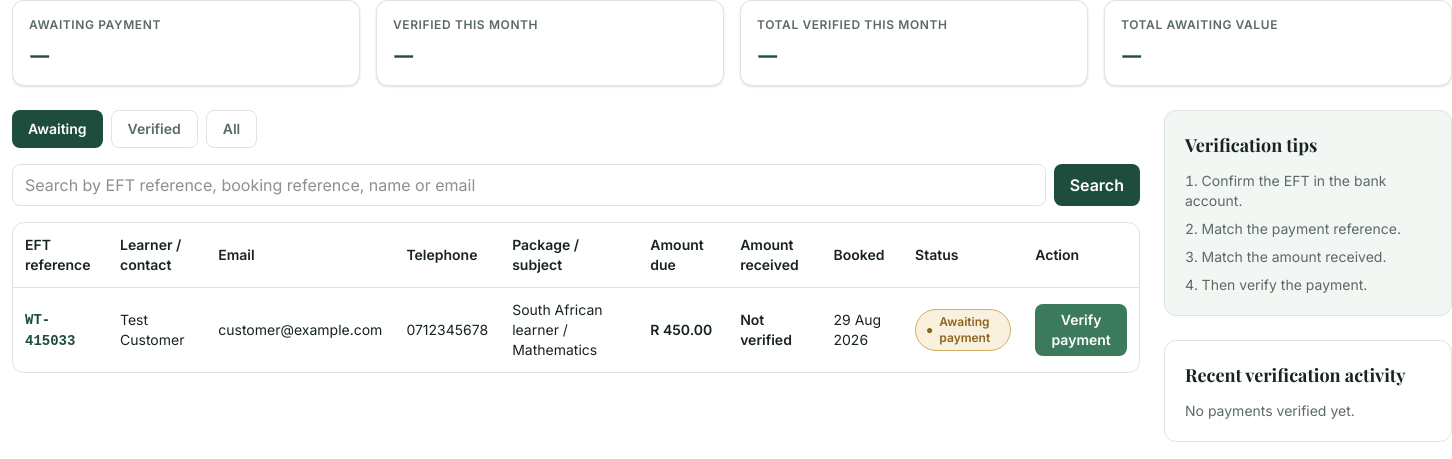
Test case: AdminDashboard › the All tab shows its own empty-state message
What coordinates should you click on to do the following:
click the tab "All"
I would click on:
 (232, 129)
Its box is [206, 110, 257, 148].
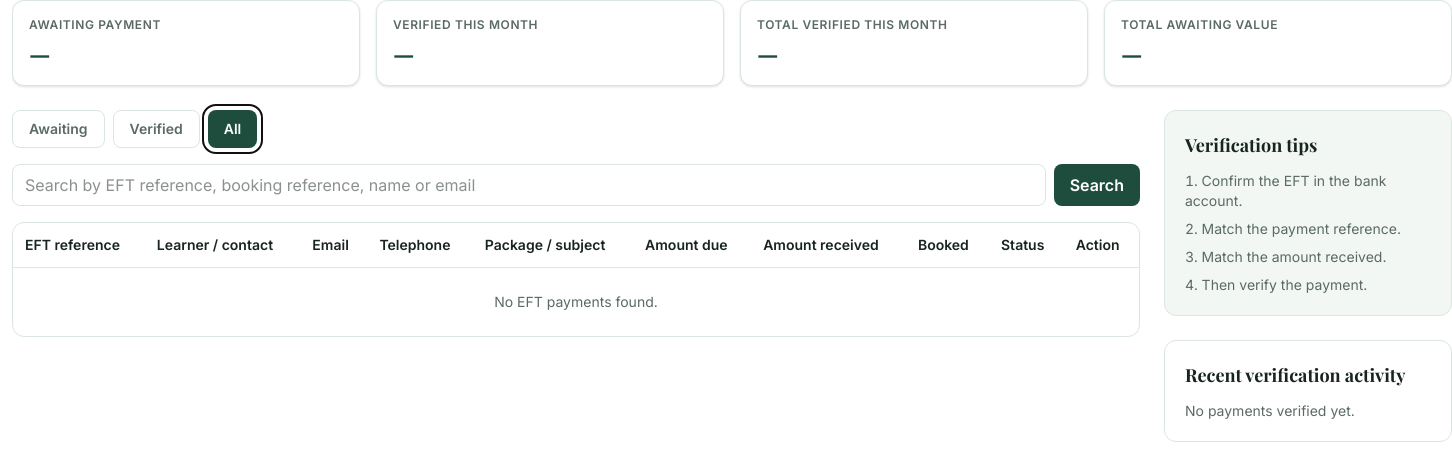
expect the text "No EFT payments found." is shown: met, box [13, 268, 1139, 336]
